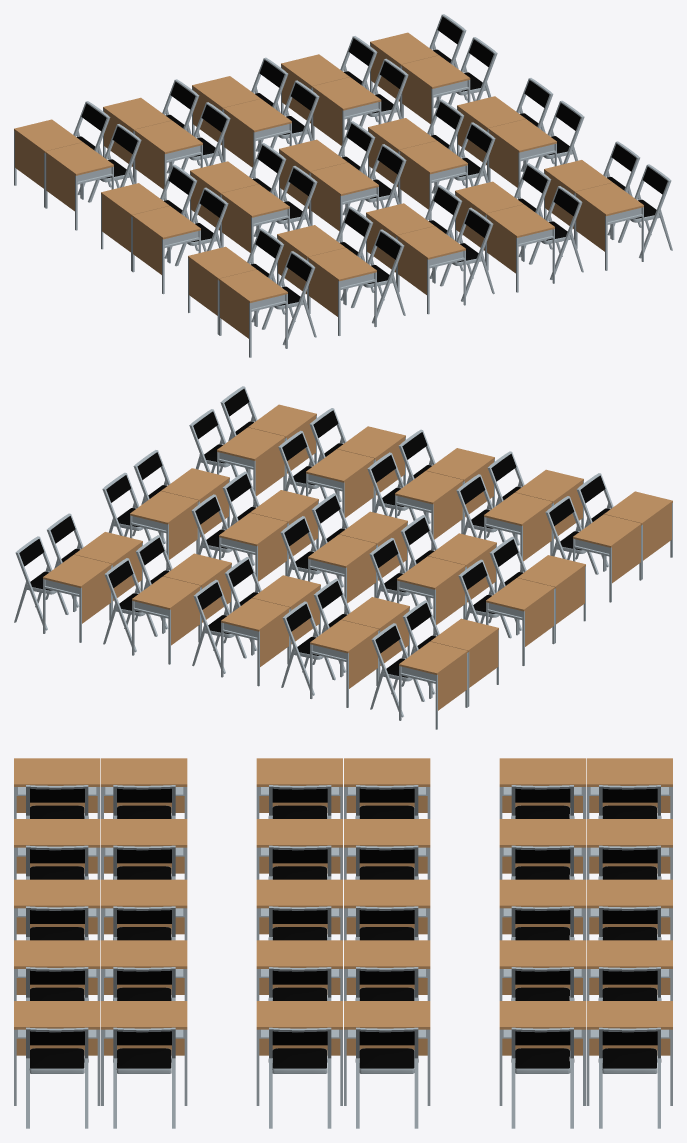
The model's file is batch3 (1).fbx.
3 renders of one model, top to bottom at view 1: azimuth 30°, elevation 25°; view 2: azimuth 150°, elevation 25°; view 3: azimuth 270°, elevation 25°, orthographic. The views are drawn at different scales.
Visible parts, largest first — view 1: Cube; view 2: Cube; view 3: Cube.
Boxes of the visible parts, x1=… form: Cube: x1=14, y1=14, x2=672, y2=357; Cube: x1=14, y1=386, x2=672, y2=729; Cube: x1=14, y1=758, x2=672, y2=1128.
Bounding box in the file's own units: 681 × 107 × 652.
